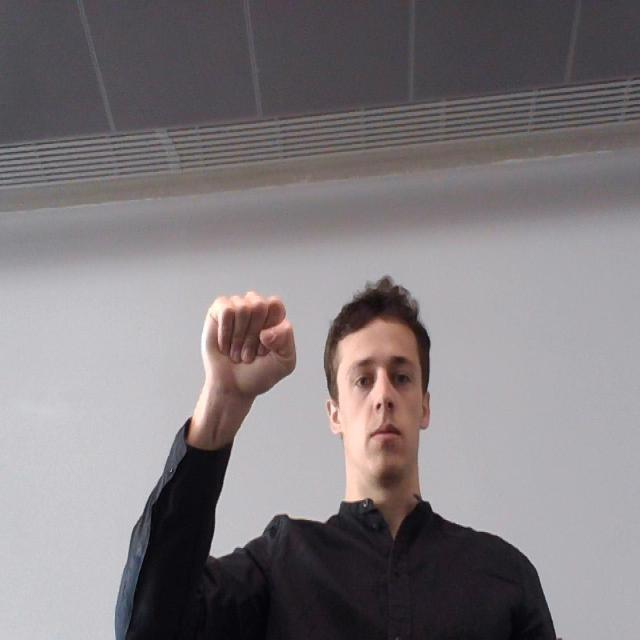stop: (187, 275, 300, 392)
